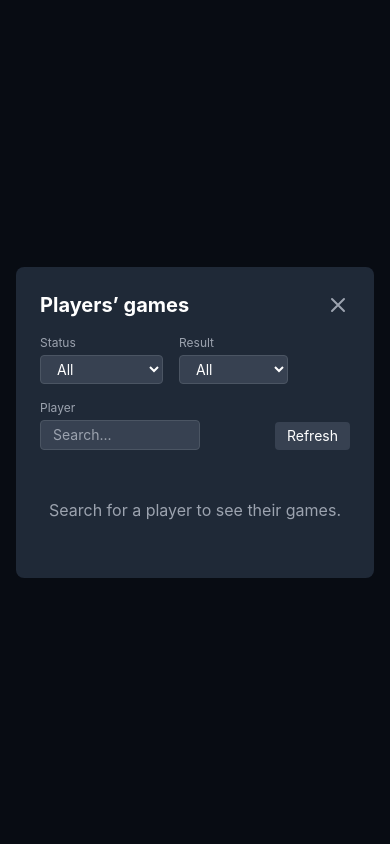
GameBrowser › lists a player's games once picked
This screenshot has width=390, height=844.
Step 1. Type "ali" into the field with placeholder "Search..." → (120, 434), box [40,420,200,450]
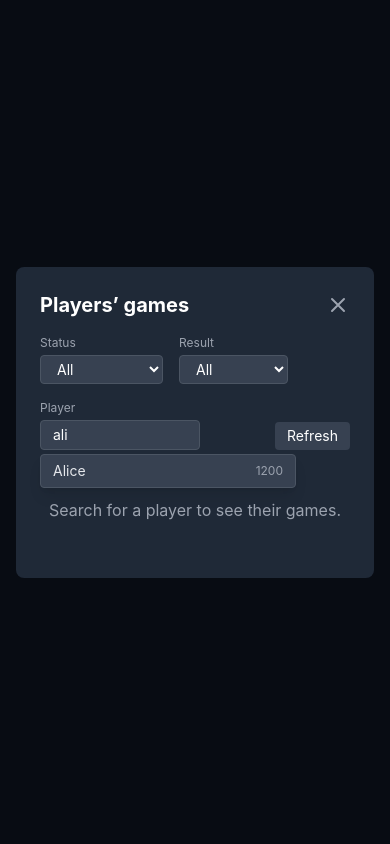
Step 2. Click the text "Alice" → (69, 470), box [53,460,86,480]
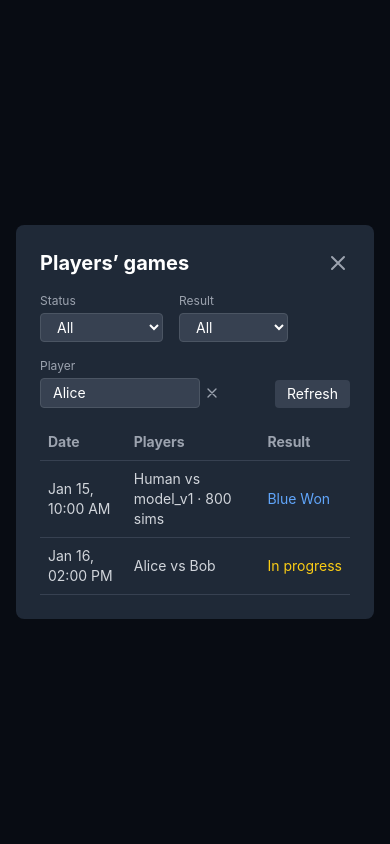
Check: the text "Human vs model_v1 · 800 sims" is shown, box [126,460,260,538]
Check: the text "Alice vs Bob" is shown, box [126,538,260,594]
Check: the text "In progress" is shown, box [259,538,350,594]
